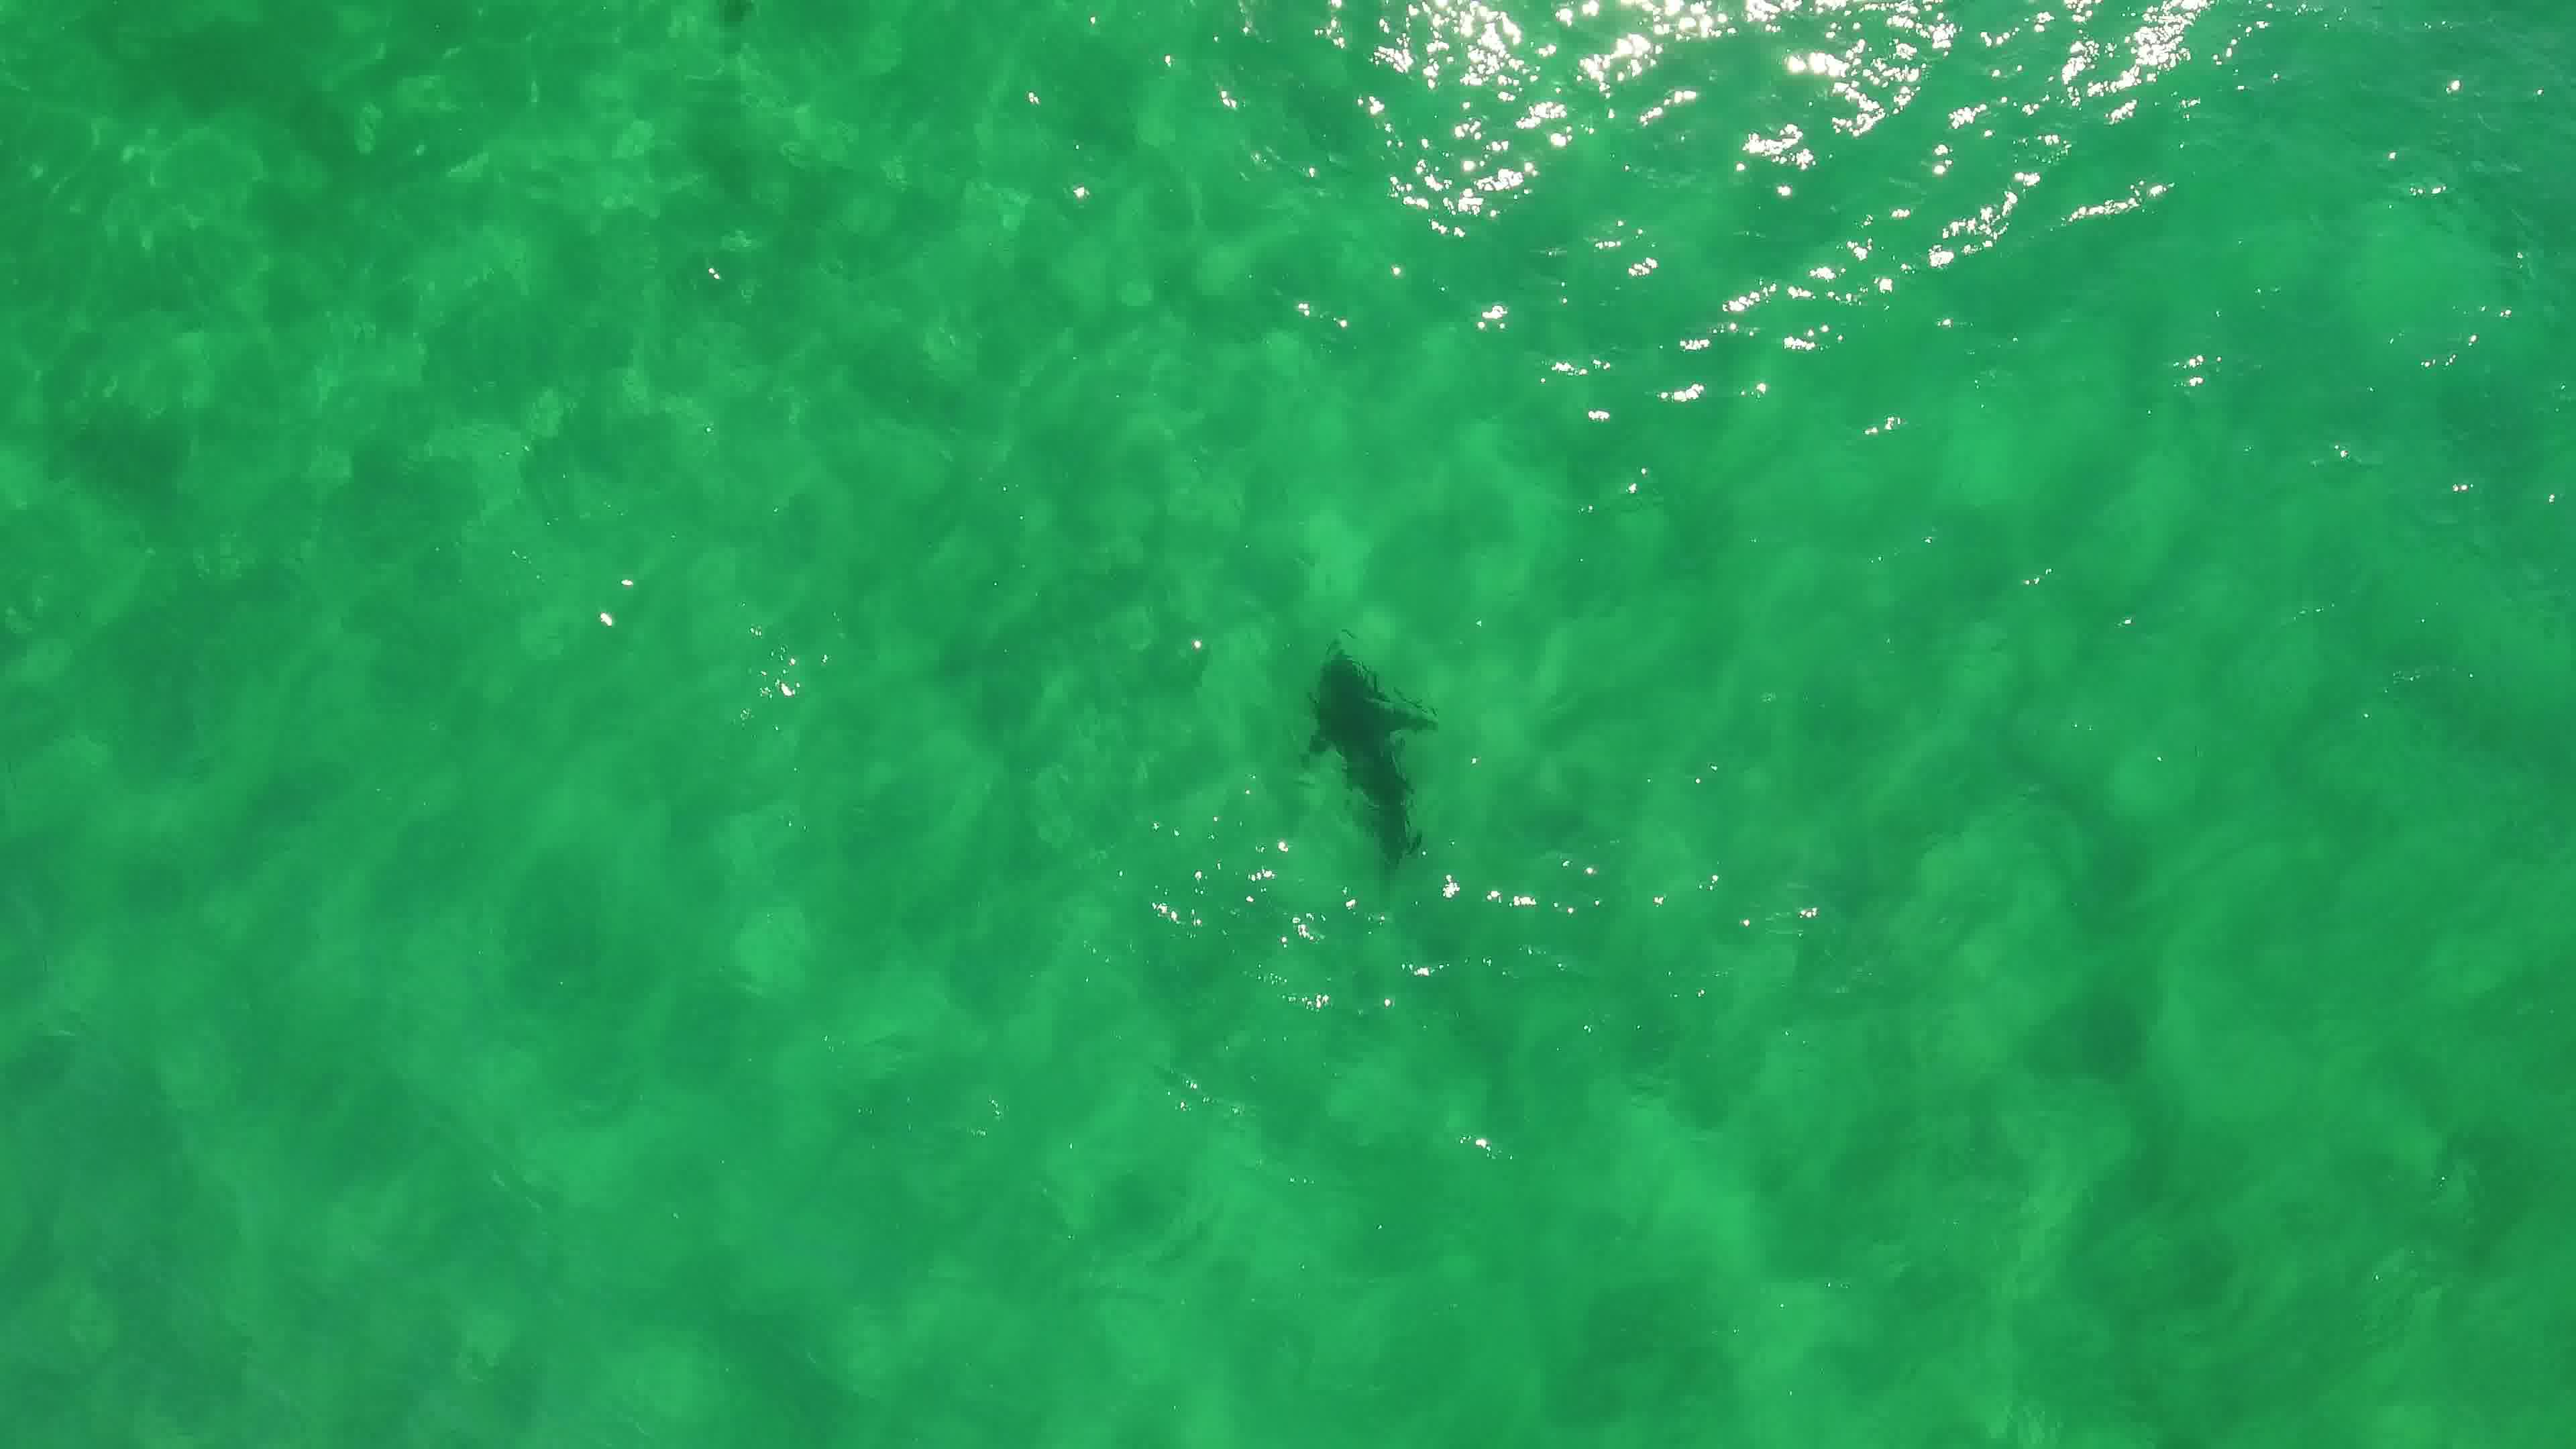shark: (1283, 628, 1447, 885)
